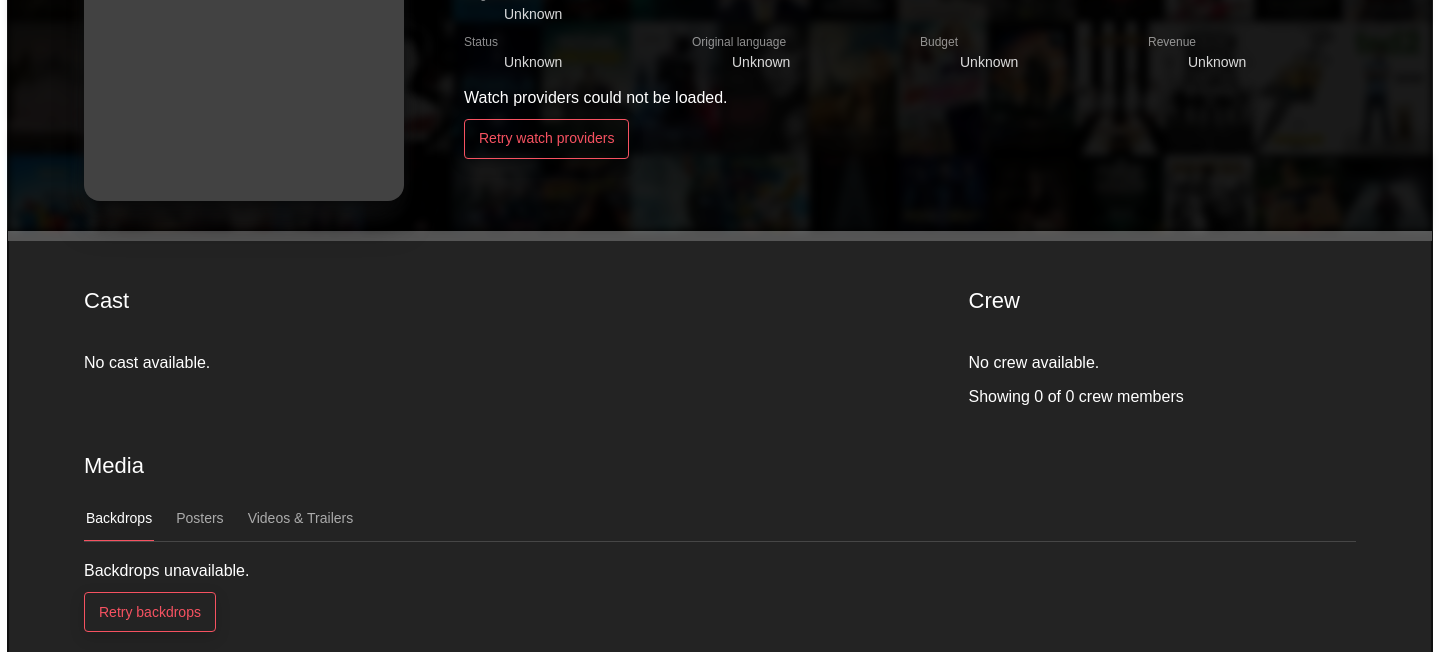
Test: retries only photos while keeping successful media visible
(page scrolled)
Click the tab "Backdrops".
click(119, 519)  # box x1=84 y1=497 x2=154 y2=541
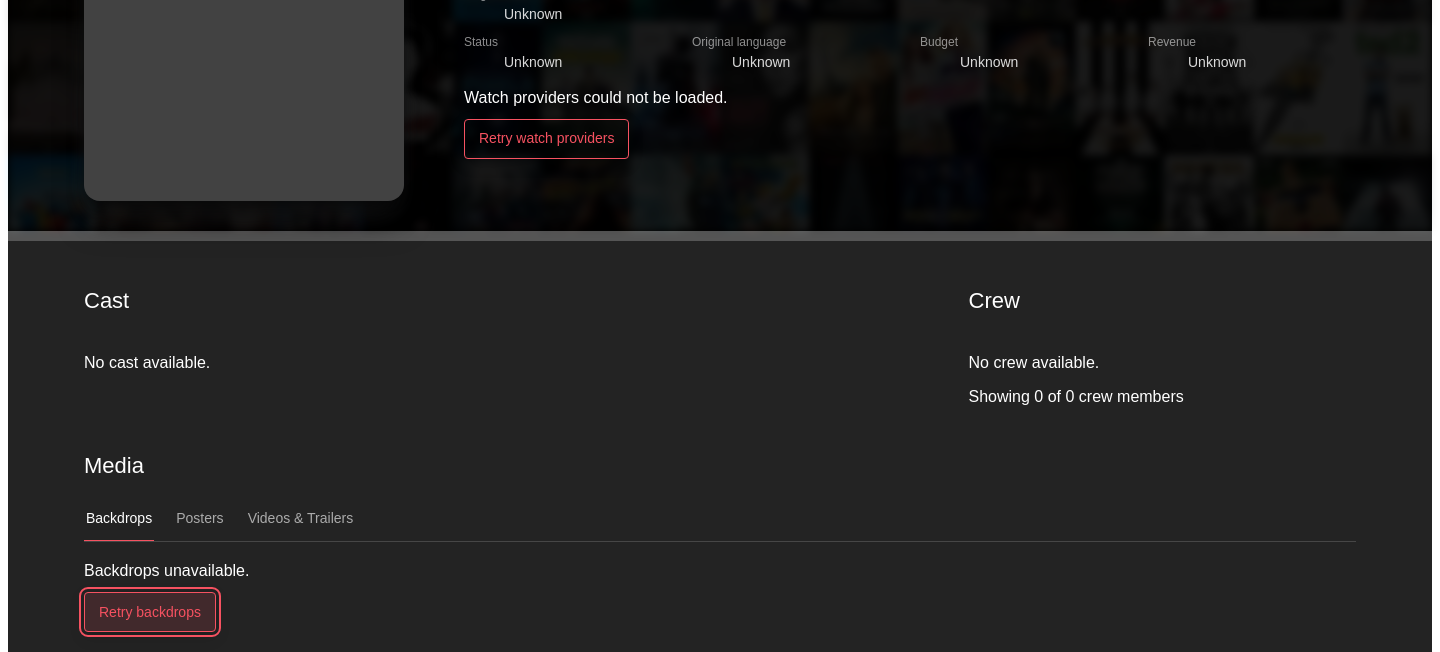
Click the button "Retry backdrops".
click(150, 612)  # box x1=84 y1=592 x2=216 y2=632
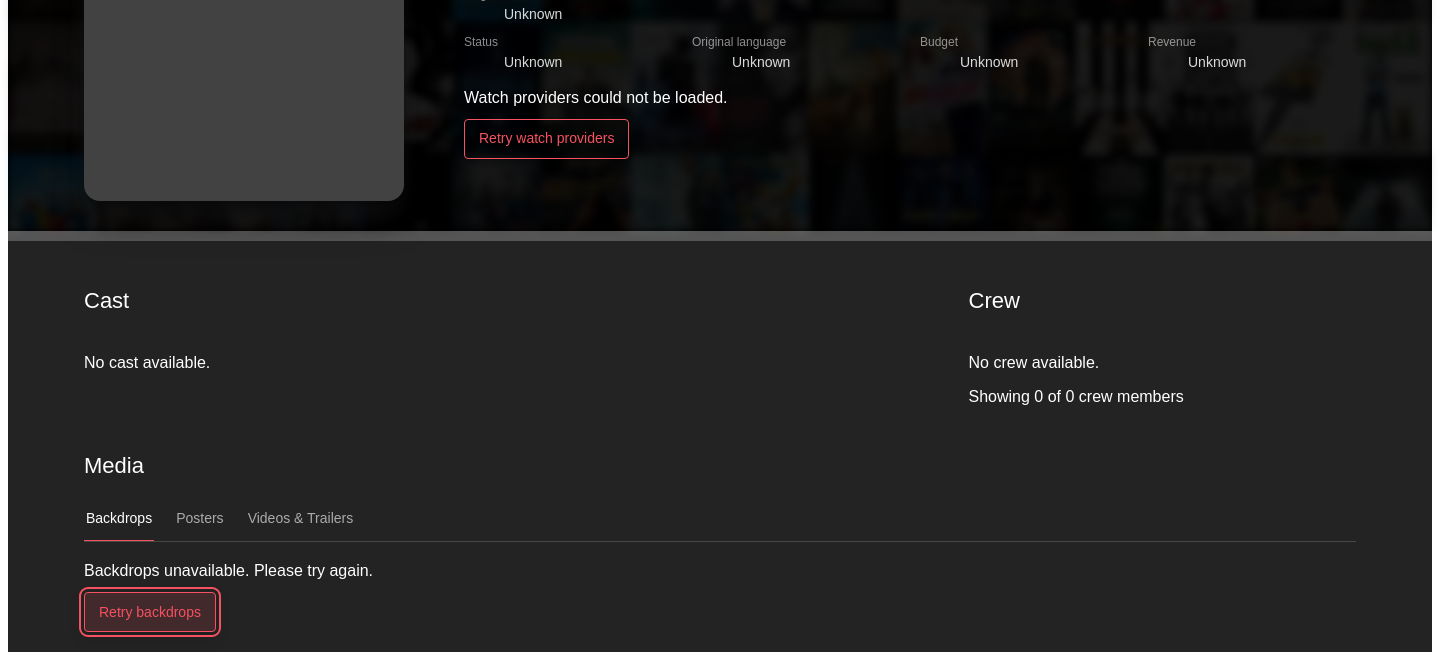
Click the button "Retry backdrops".
click(150, 612)  # box x1=84 y1=592 x2=216 y2=632
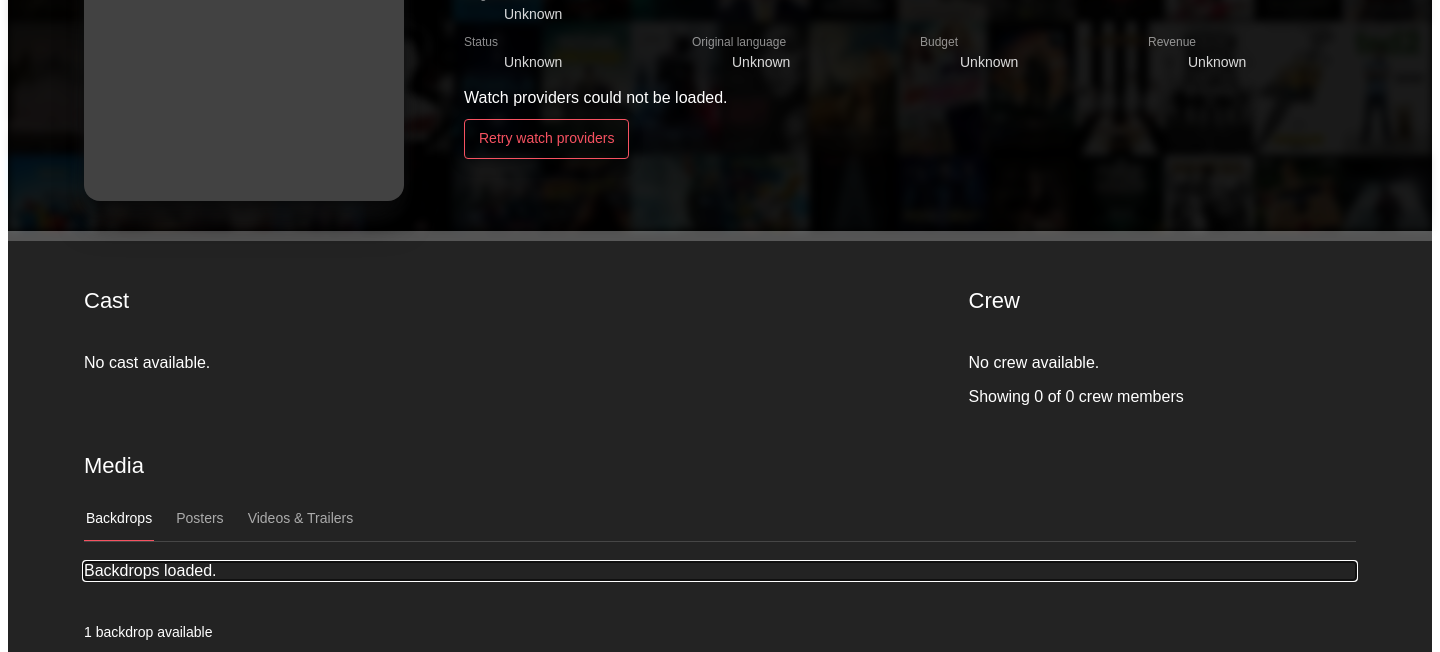
Click the tab "Posters".
click(200, 519)  # box x1=174 y1=497 x2=226 y2=541
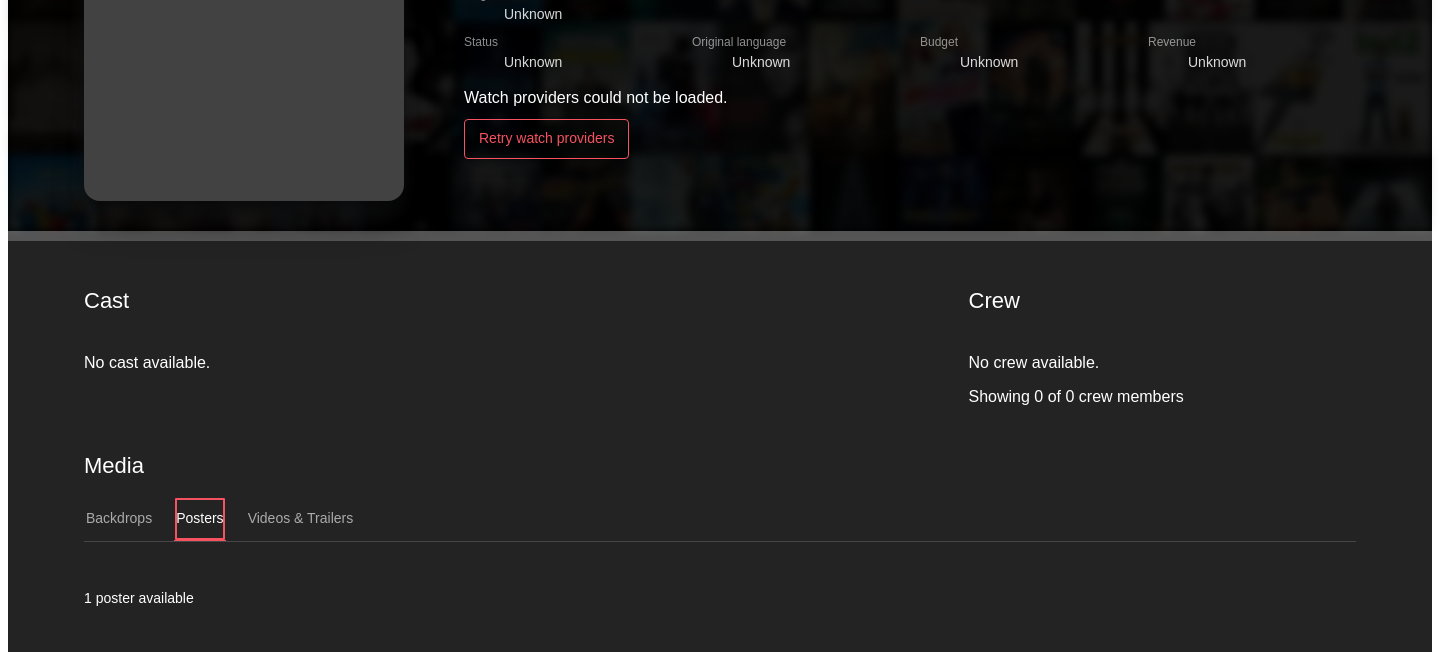
Click the tab "Videos & Trailers".
click(300, 519)  # box x1=246 y1=497 x2=355 y2=541
(page scrolled)
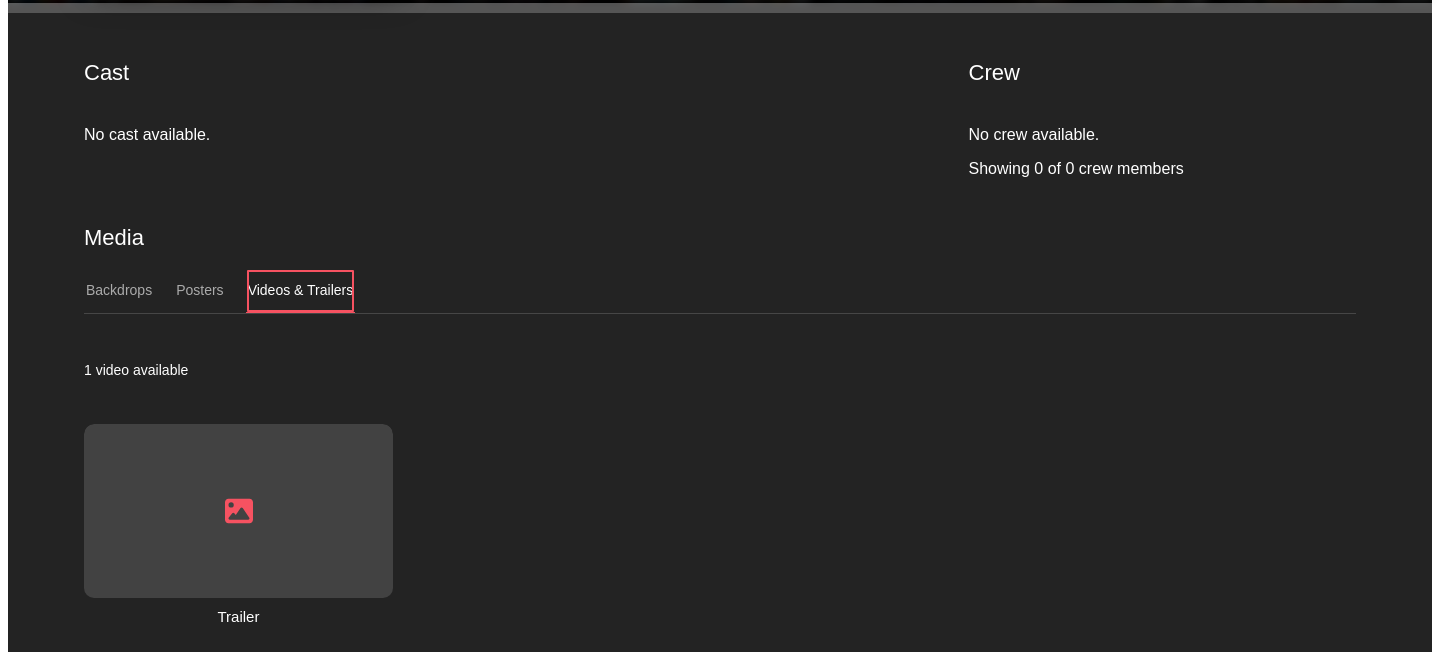
Expected: the button with aria-label "Play Trailer" is shown, x1=84 y1=424 x2=393 y2=648
